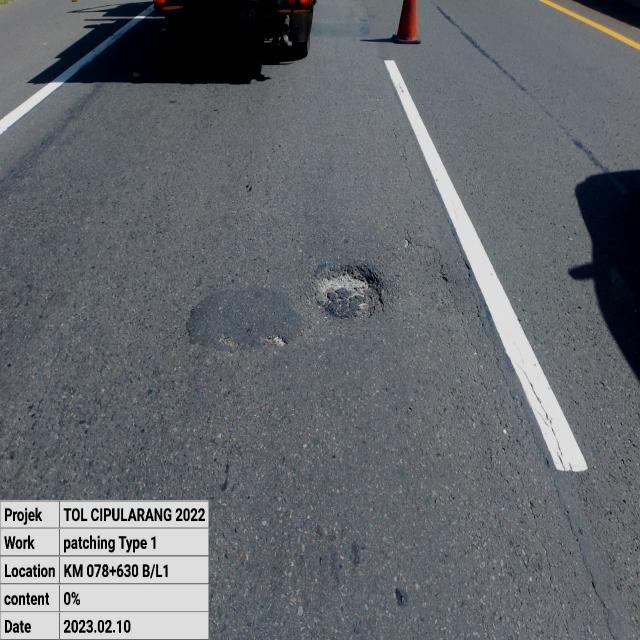Buraco: (305, 258, 389, 323)
